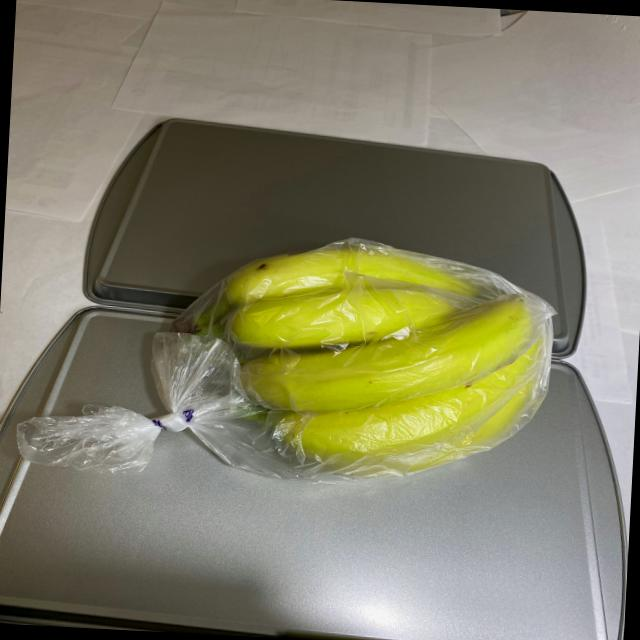banana: (143, 228, 564, 494)
